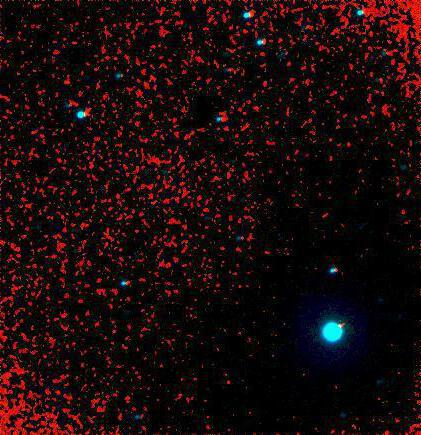star: (316, 312, 346, 342)
